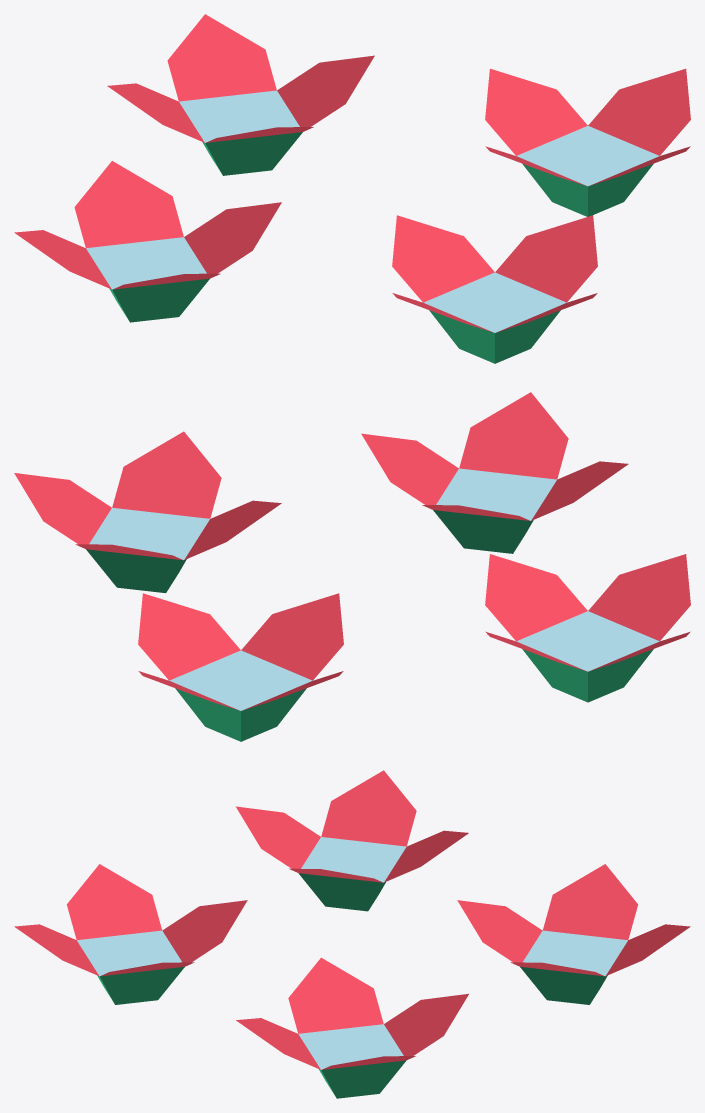
The model's file is flowersLow.fbx.
The picture shows the model from 3 angles, top to bottom: view 1: azimuth 30°, elevation 25°; view 2: azimuth 150°, elevation 25°; view 3: azimuth 270°, elevation 25°; orthographic projection. The views are drawn at different scales.
Parts seen in each view (by area): view 1: flowersLow; view 2: flowersLow; view 3: flowersLow.
Part boxes in pixels (x1,y1,x2,y2): flowersLow: (14, 14, 690, 363); flowersLow: (14, 392, 690, 741); flowersLow: (14, 770, 690, 1098).
Size of the model in its own units: 7.64 by 1 by 7.64.
